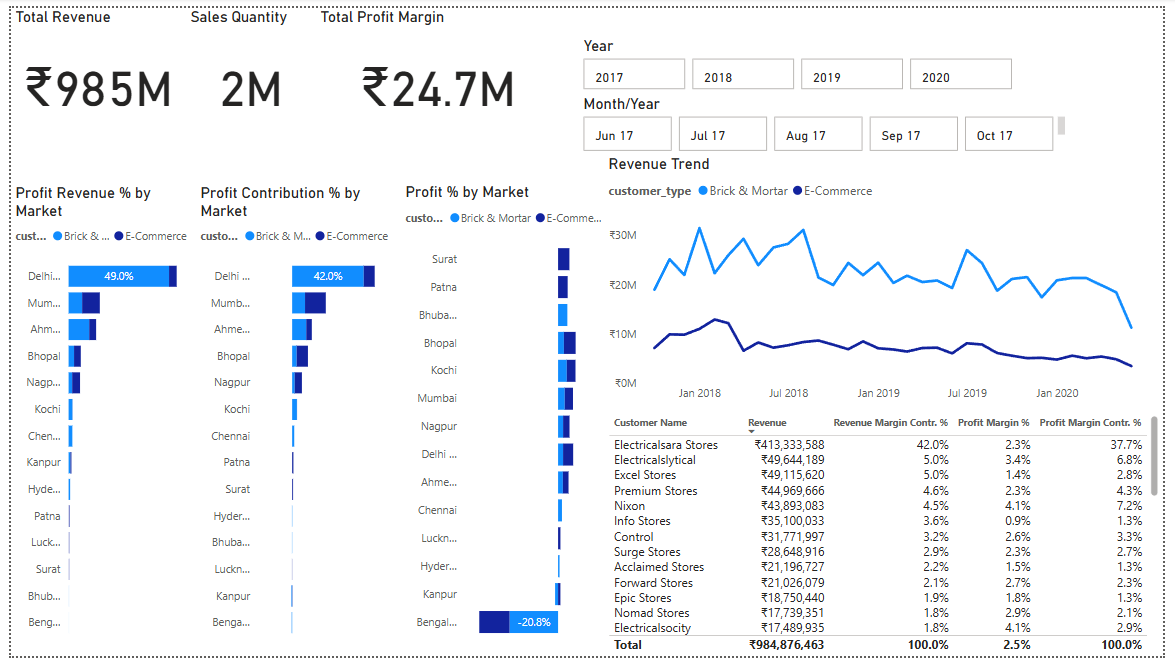

This screenshot's page, from the dashboard's own definition file:
{"tool":"powerbi","page":{"name":"Profit analysis","canvas":[1280,720],"ordinal":0},"visuals":[{"type":"card","title":"Total Revenue","fields":{"Values":["BaseMeasures.Revenue"]},"box":[0,0,193.9,147.2],"z":0},{"type":"card","title":"Sales Quantity","fields":{"Values":["BaseMeasures.Sales Qty"]},"box":[193.9,0,144.5,147.2],"z":1000},{"type":"barChart","title":"Profit % by Market","fields":{"Y":["BaseMeasures.Profit margin %"],"Category":["sales markets.markets_name"]},"box":[423.7,195.7,230.7,516.2],"z":2000},{"type":"barChart","title":"Profit Contribution % by Market","fields":{"Y":["BaseMeasures.Profit Margin Contribution %"],"Category":["sales markets.markets_name"]},"box":[205.6,195.7,225.3,516.2],"z":3000},{"type":"advancedSlicerVisual","title":"Year","fields":{"Values":["sales date.year"]},"box":[625.3,28.5,499.4,77.6],"z":4000},{"type":"advancedSlicerVisual","title":"Month/Year","fields":{"Values":["sales date.cy_date"]},"box":[625.3,106.1,528.7,63.8],"z":5000},{"type":"tableEx","title":"Top 5 customers","fields":{"Values":["sales customers.custmer_name","BaseMeasures.Revenue","BaseMeasures.Revenue Margin Contribution %","BaseMeasures.Profit margin %","BaseMeasures.Profit Margin Contribution %"]},"box":[659,448,621.2,272],"z":6000},{"type":"lineChart","title":"Revenue Trend","fields":{"Y":["BaseMeasures.Revenue"],"Category":["sales date.cy_date Hierarchy.cy_date"]},"box":[665,169.9,615,283.8],"z":7000},{"type":"card","title":"Total Profit Margin","fields":{"Values":["BaseMeasures.Total Profit Margin"]},"box":[338.5,0,271.1,147.2],"z":8000},{"type":"barChart","title":"Profit Revenue % by Market","fields":{"Y":["BaseMeasures.Revenue Margin Contribution %"],"Category":["sales markets.markets_name"]},"box":[0,195.7,205.6,516.2],"z":9000}]}

Visuals, with their boxes in screenshot pixels (x1, y1, x2, y2), scaled from the page's 1280x720 canvas onto the 1175x671 screenshot:
"Total Revenue" card: locate(0, 0, 178, 137)
"Sales Quantity" card: locate(178, 0, 311, 137)
"Profit % by Market" barChart: locate(389, 182, 601, 663)
"Profit Contribution % by Market" barChart: locate(189, 182, 396, 663)
"Year" advancedSlicerVisual: locate(574, 27, 1032, 99)
"Month/Year" advancedSlicerVisual: locate(574, 99, 1059, 158)
"Top 5 customers" tableEx: locate(605, 418, 1174, 670)
"Revenue Trend" lineChart: locate(610, 158, 1174, 423)
"Total Profit Margin" card: locate(311, 0, 560, 137)
"Profit Revenue % by Market" barChart: locate(0, 182, 189, 663)
